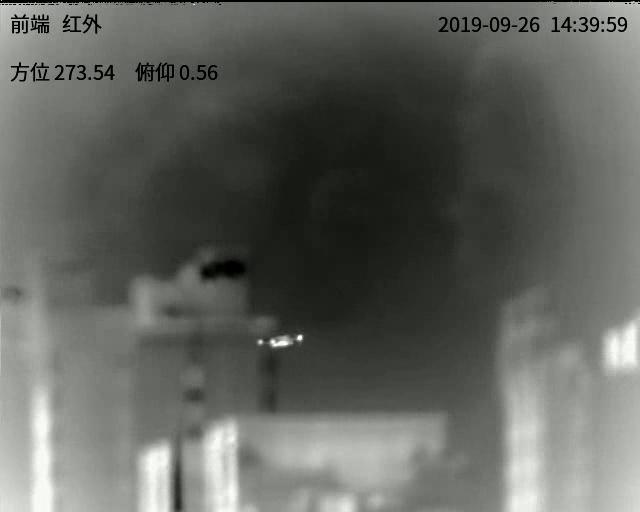DRONE: (253, 333, 306, 348)
